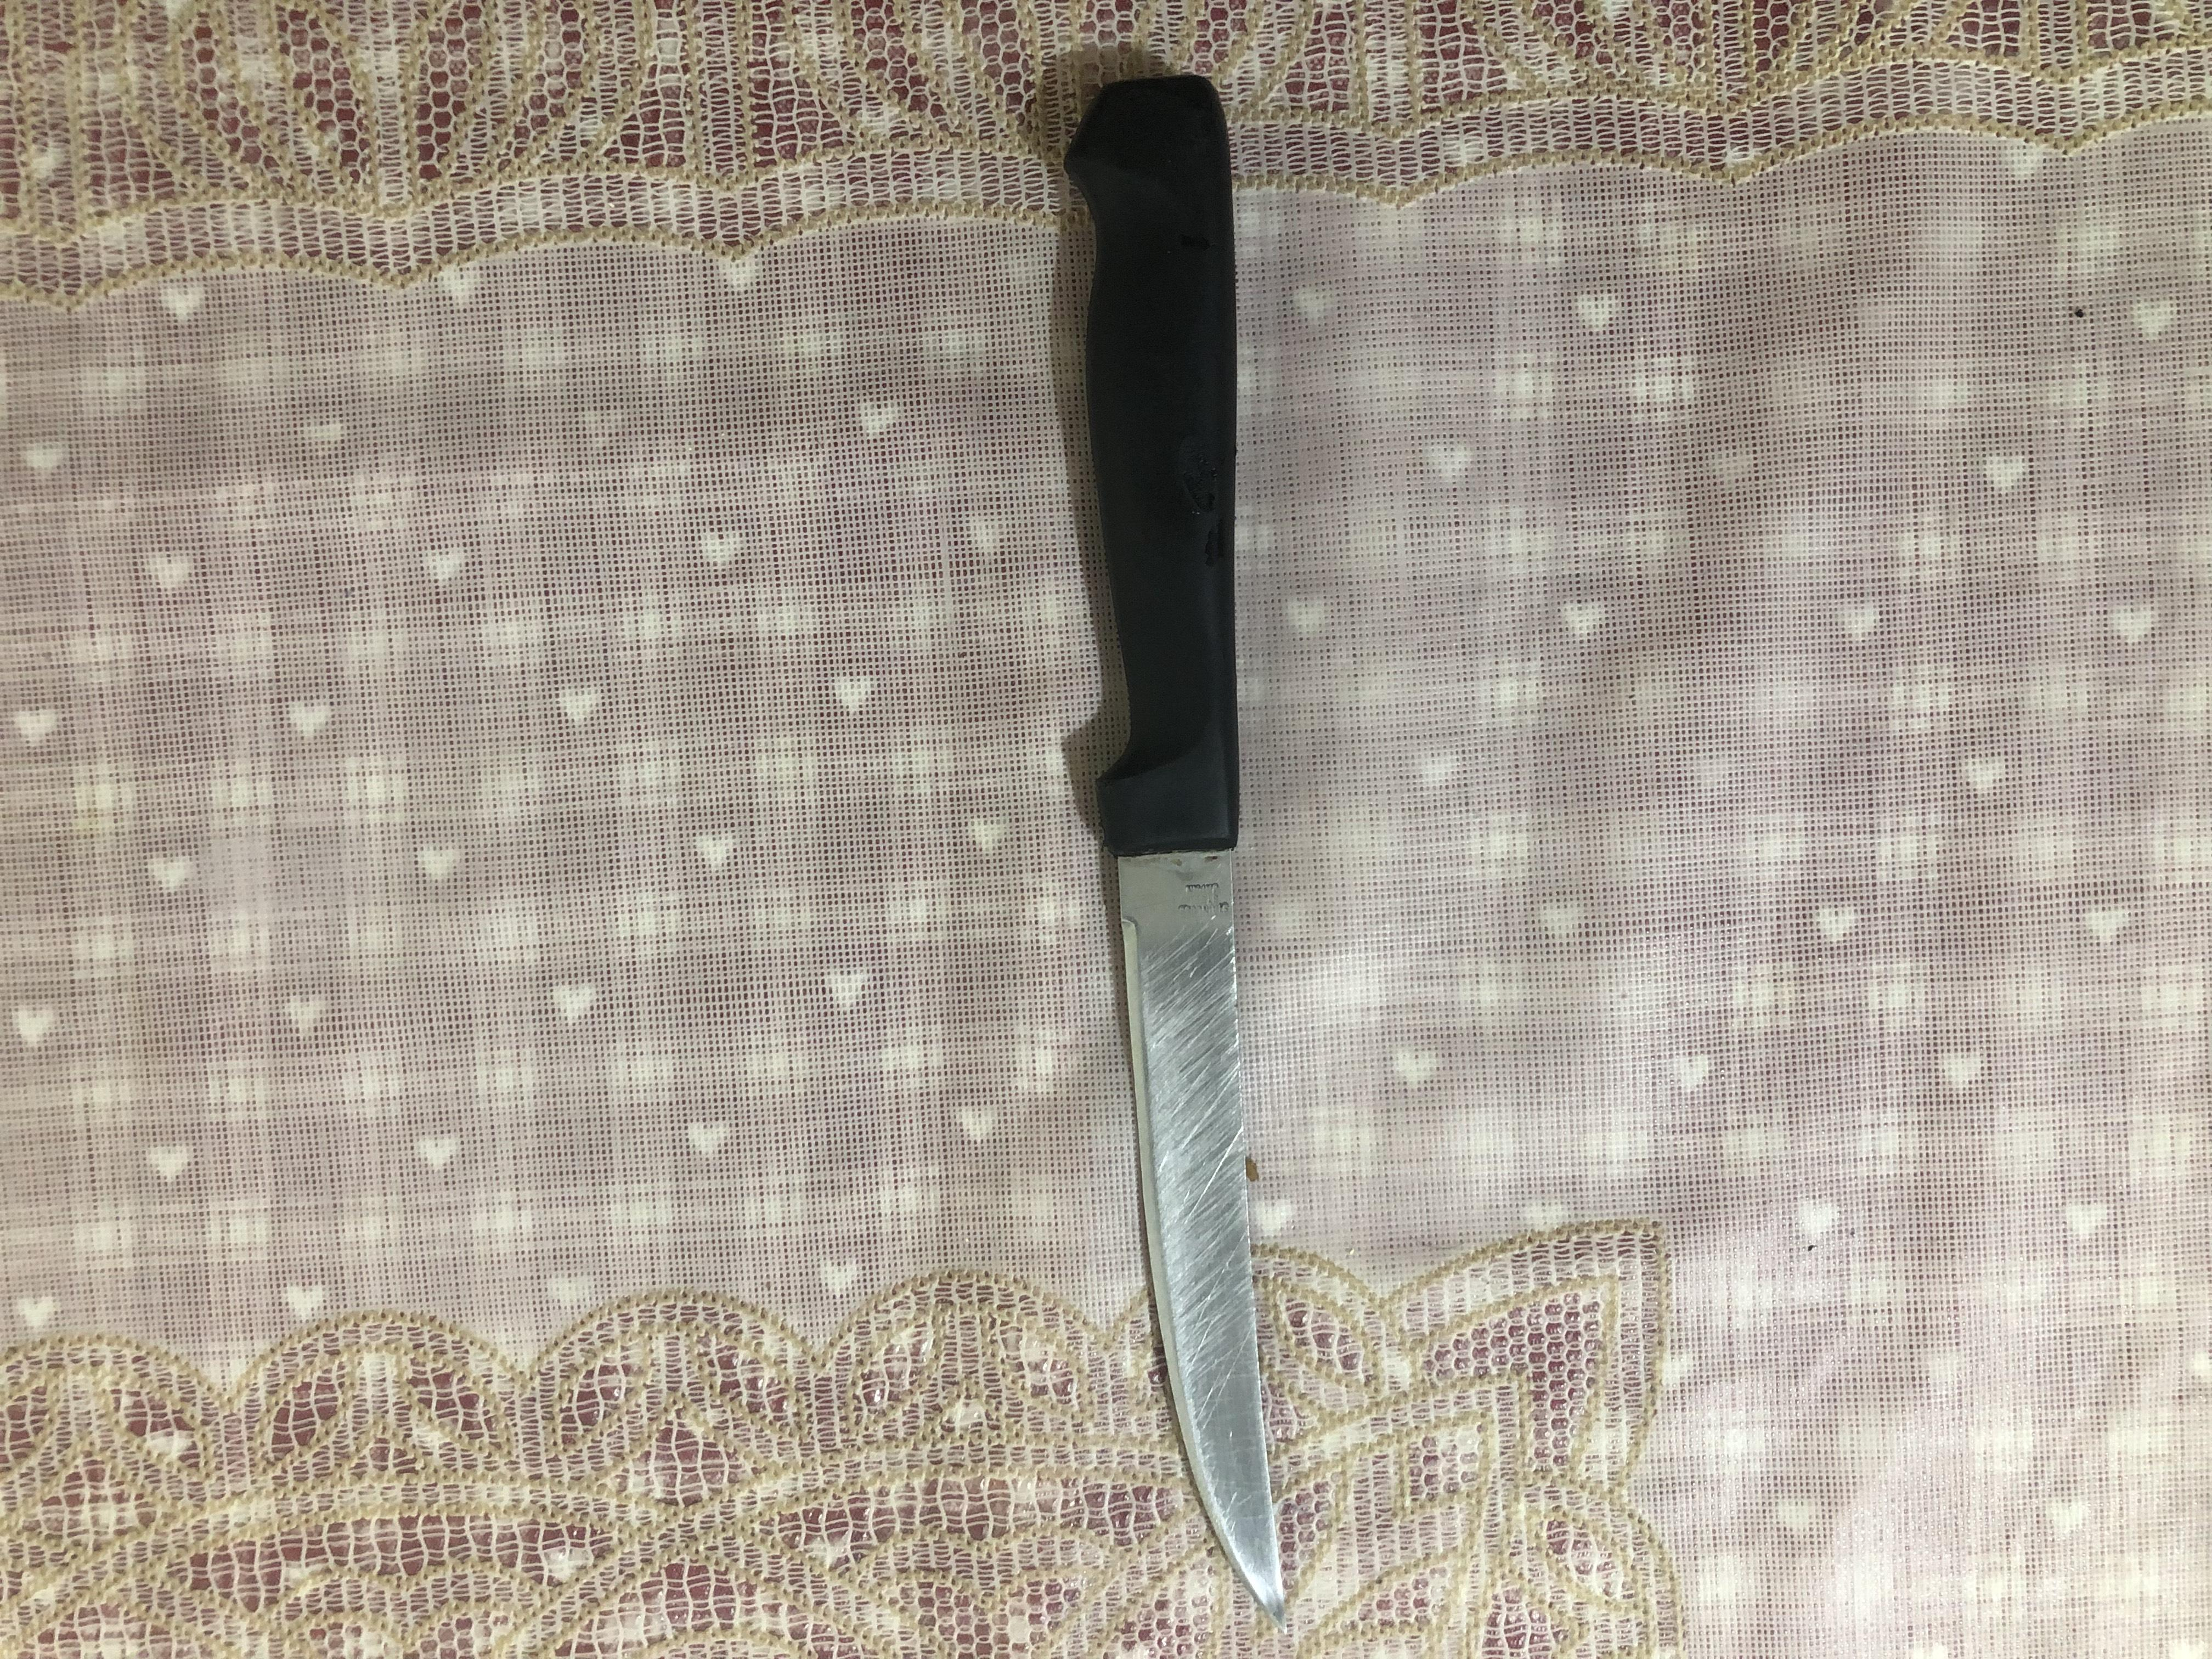weapon: (63, 800, 2148, 972)
